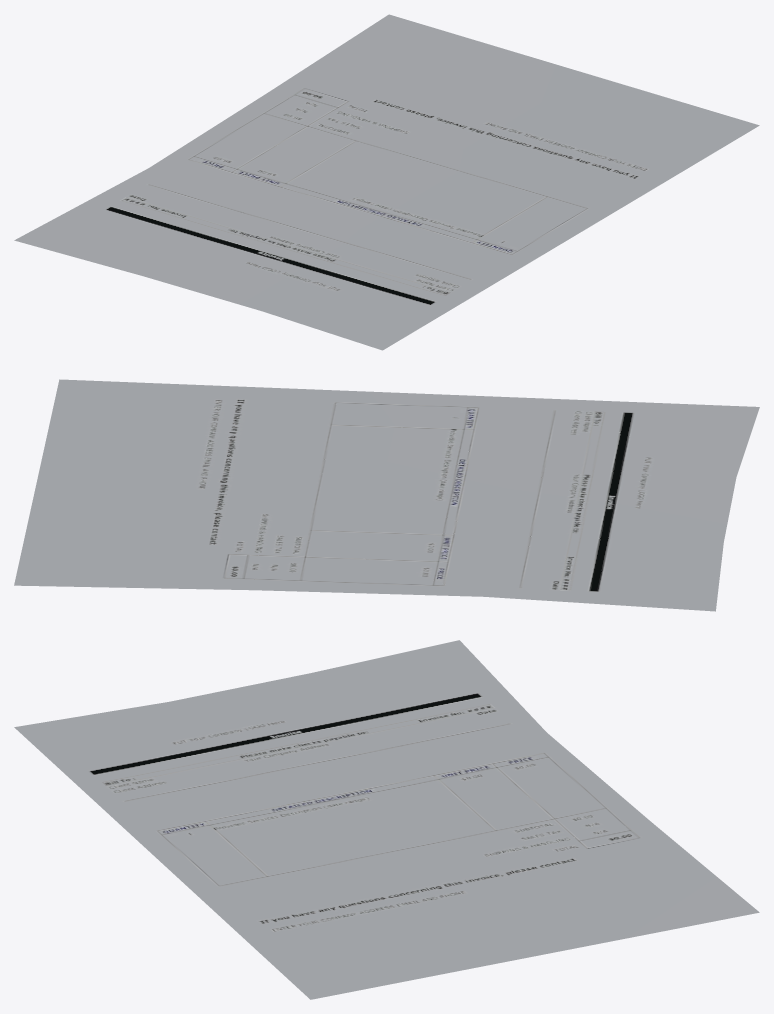
The model's file is Paper_3.fbx.
The picture shows the model from 3 angles, top to bottom: view 1: azimuth 30°, elevation 25°; view 2: azimuth 150°, elevation 25°; view 3: azimuth 270°, elevation 25°; orthographic projection. The views are drawn at different scales.
Parts seen in each view (by area): view 1: Paper_3; view 2: Paper_3; view 3: Paper_3.
Part boxes in pixels (x1,y1,x2,y2): Paper_3: (14,14,759,350); Paper_3: (14,379,759,611); Paper_3: (14,640,759,999).
Bounding box in the file's own units: 78.48 × 0.1587 × 68.79.
